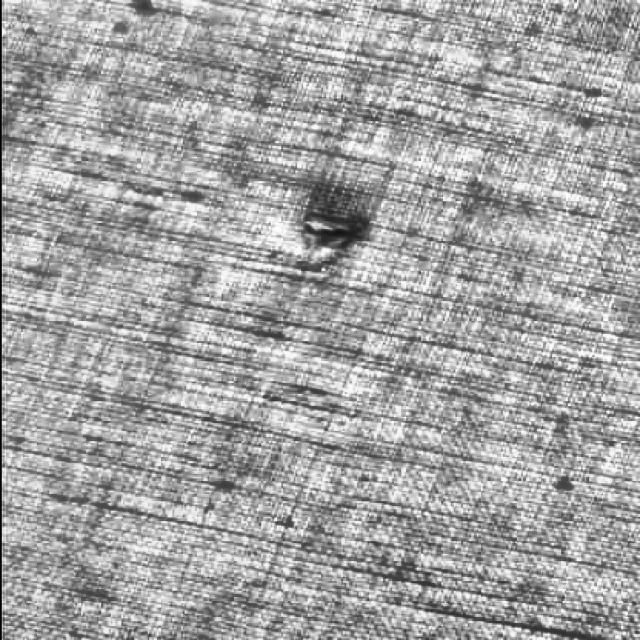objects: (281, 184, 385, 279)
